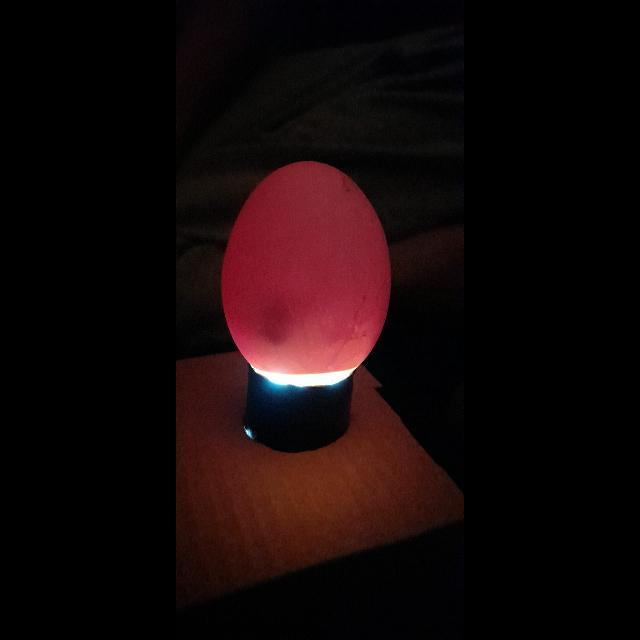Fertile: (218, 155, 396, 387)
